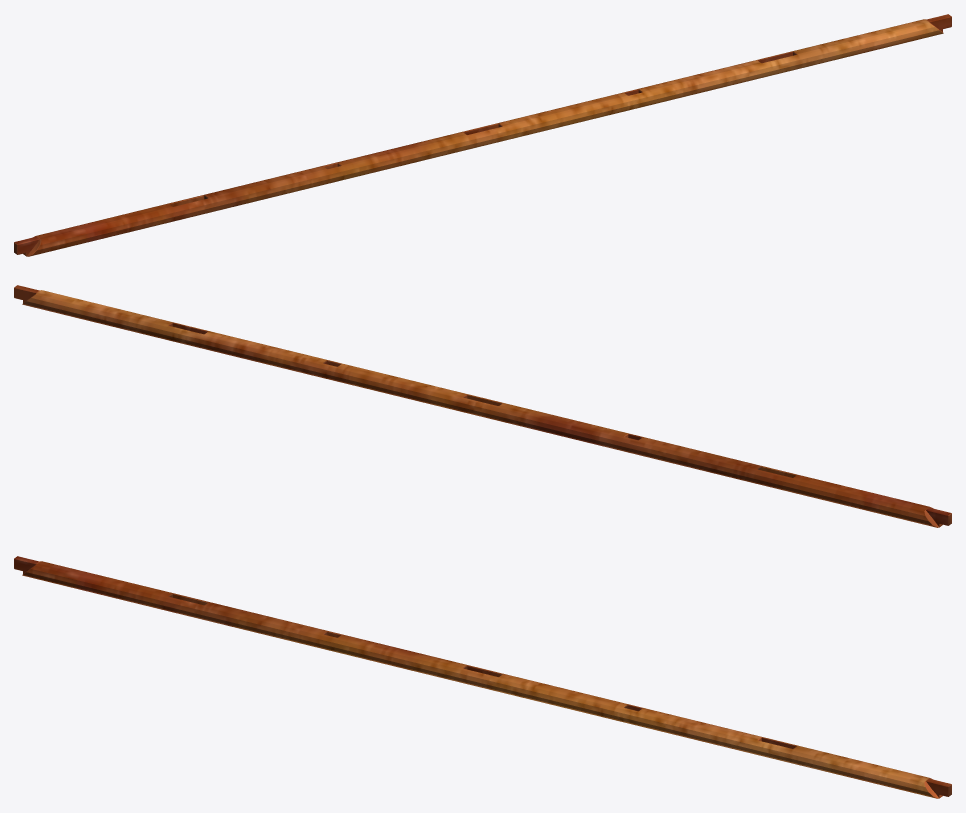
Rendered from SJ_J_hengzhang_1_004.FBX.
3 views of the same model, one above another, from view 1: azimuth 30°, elevation 25°; view 2: azimuth 150°, elevation 25°; view 3: azimuth 330°, elevation 25° (orthographic).
Visible parts, largest first — view 1: SJ_J_hengzhang_1_004; view 2: SJ_J_hengzhang_1_004; view 3: SJ_J_hengzhang_1_004.
Part boxes in pixels (x1=…): SJ_J_hengzhang_1_004: x1=14, y1=14, x2=951, y2=256; SJ_J_hengzhang_1_004: x1=14, y1=285, x2=951, y2=527; SJ_J_hengzhang_1_004: x1=14, y1=556, x2=951, y2=798.
Size of the model in its own units: 101 by 1.5 by 2.
Materials: 2 (2 with a texture image).
